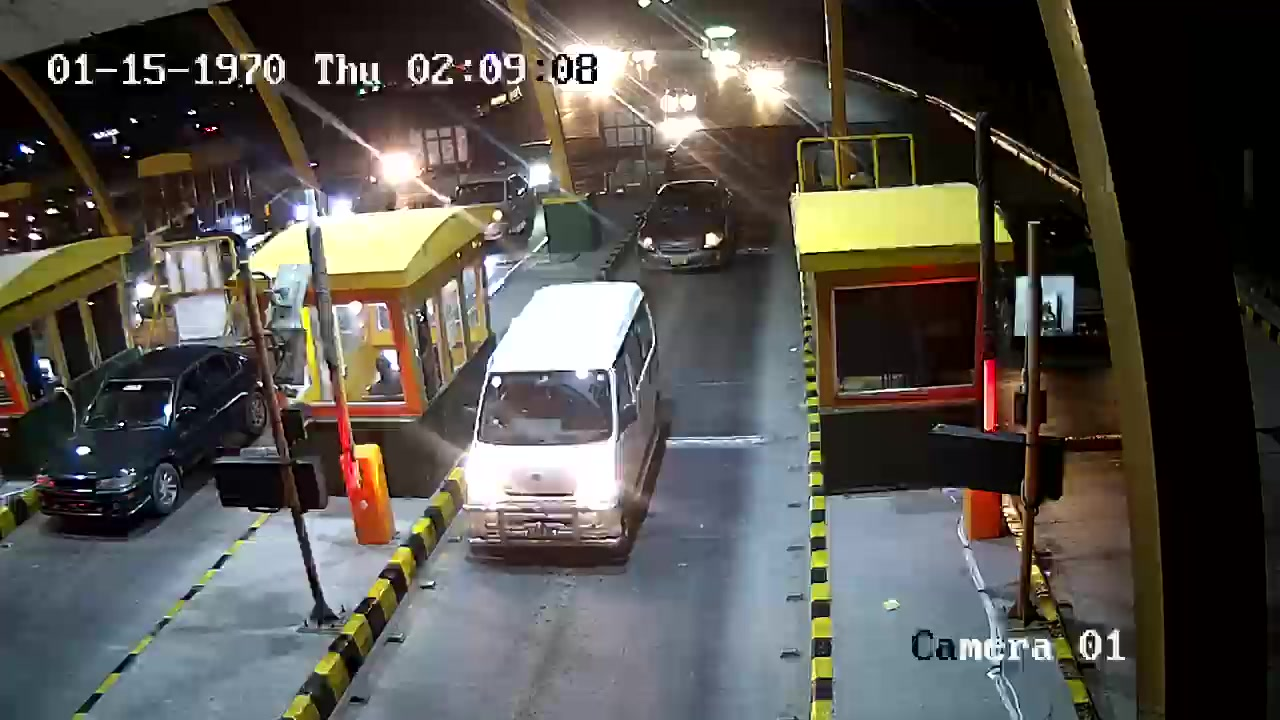F1: (450, 276, 671, 587)
